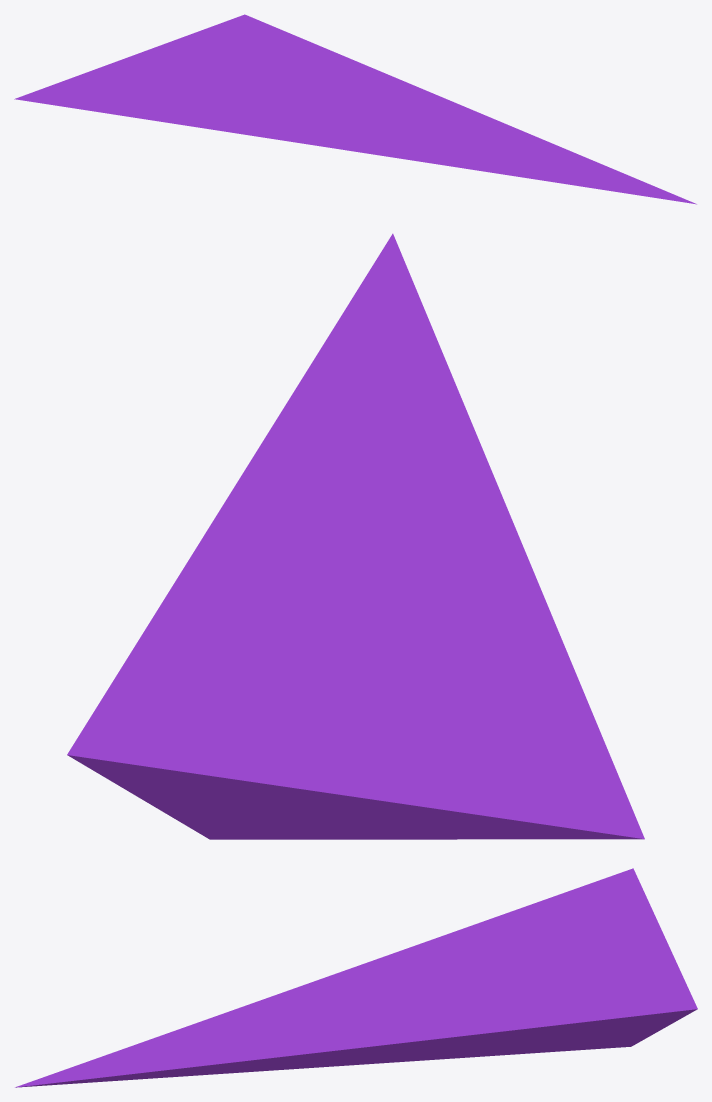
File: Glass_106_0_chunks.fbx
The picture shows the model from 3 angles, top to bottom: view 1: azimuth 30°, elevation 25°; view 2: azimuth 150°, elevation 25°; view 3: azimuth 270°, elevation 25°; orthographic projection. The views are drawn at different scales.
Parts seen in each view (by area): view 1: Glass_106_0_0; view 2: Glass_106_0_0; view 3: Glass_106_0_0.
Part boxes in pixels (x1,y1,x2,y2): Glass_106_0_0: (14,14,696,204); Glass_106_0_0: (67,233,644,839); Glass_106_0_0: (15,868,697,1087).
Size of the model in its own units: 348 by 44.57 by 459.
